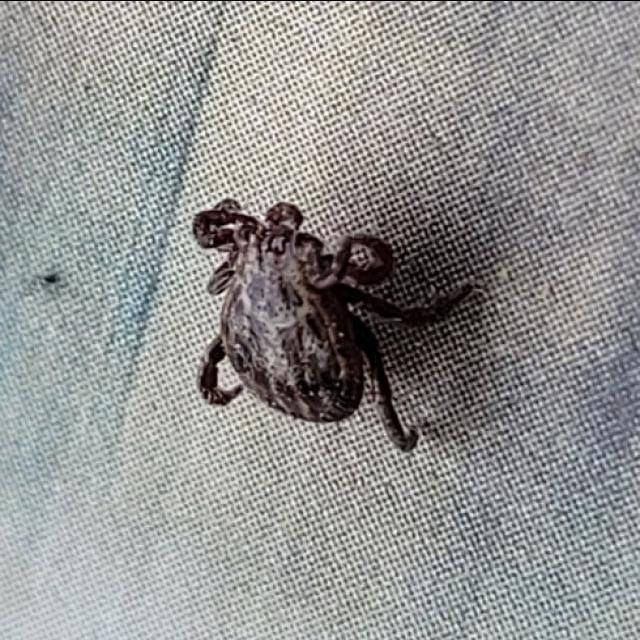Dermacentor Reticulatus-M: (192, 197, 474, 451)
